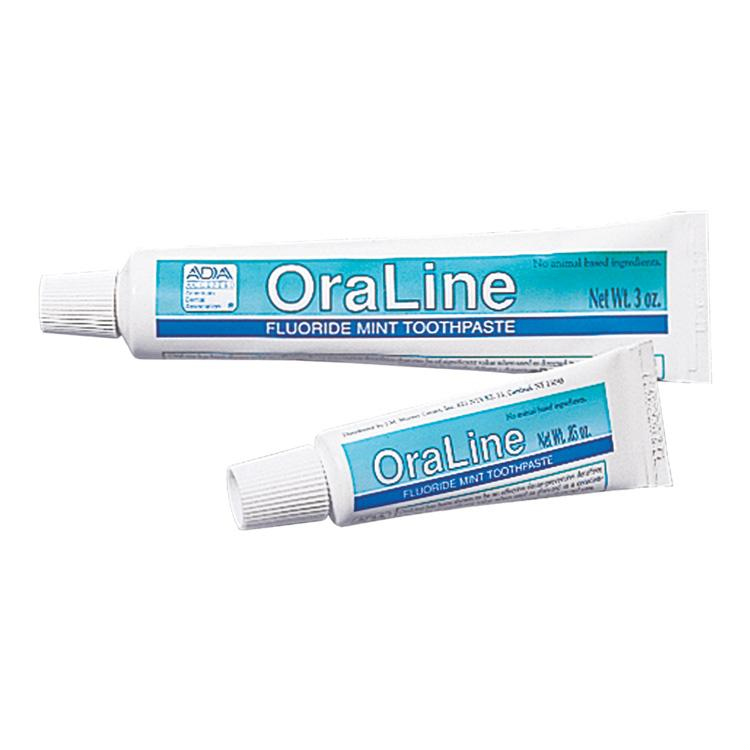toothpaste: (31, 235, 721, 382), (206, 365, 697, 537)
